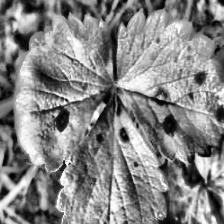Leaf Spot: (115, 8, 224, 164), (13, 12, 115, 173), (55, 91, 170, 224), (133, 150, 220, 224)
